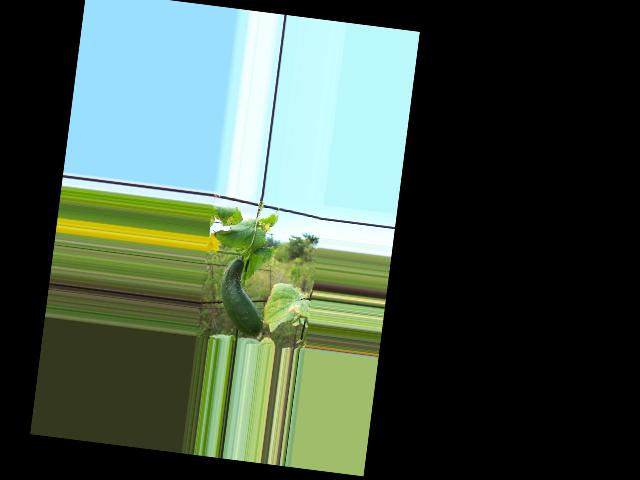cucumber: (215, 255, 271, 337)
